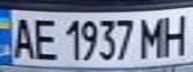1: (60, 16, 81, 62)
3: (97, 16, 118, 62)
7: (115, 16, 139, 61)
9: (78, 16, 100, 61)
A: (6, 14, 39, 61)
E: (30, 15, 60, 62)
H: (157, 10, 193, 57)
M: (136, 14, 169, 58)
